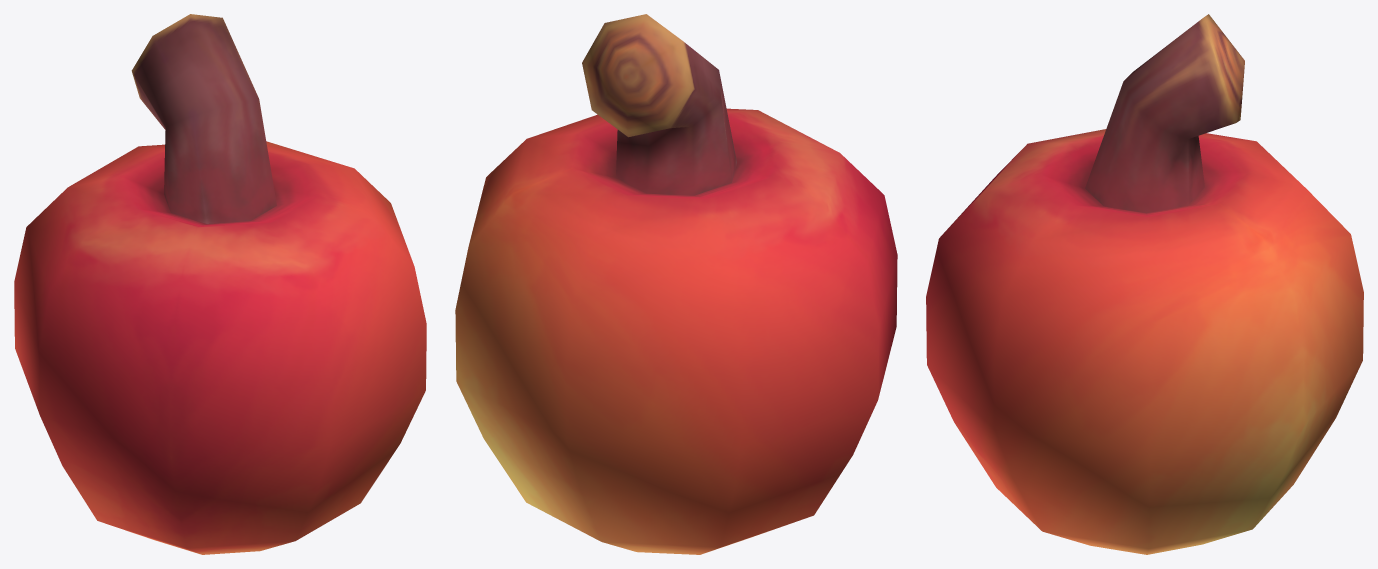
File: Pickup_Apple.fbx
3 renders of one model, left to right at view 1: azimuth 30°, elevation 25°; view 2: azimuth 150°, elevation 25°; view 3: azimuth 270°, elevation 25°, orthographic. The views are drawn at different scales.
Parts seen in each view (by area): view 1: MW_Fruit_6:pSphere1; view 2: MW_Fruit_6:pSphere1; view 3: MW_Fruit_6:pSphere1.
Boxes of the visible parts, bbox=[...] form: MW_Fruit_6:pSphere1: bbox=[14, 14, 426, 554]; MW_Fruit_6:pSphere1: bbox=[455, 14, 897, 554]; MW_Fruit_6:pSphere1: bbox=[926, 14, 1363, 554].
Bounding box in the file's own units: 6.33 × 8.05 × 6.33.
